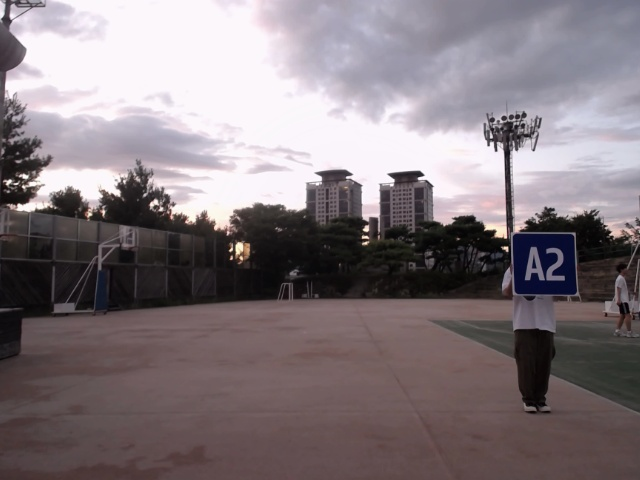delivery_a2: (512, 232, 577, 296)
